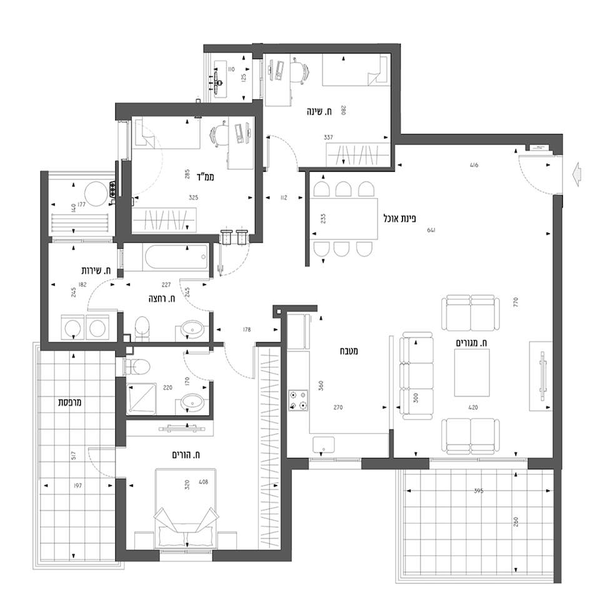door: (519, 151, 573, 197), (78, 276, 137, 315), (84, 437, 136, 481), (217, 233, 255, 282), (226, 337, 262, 387), (267, 132, 300, 172), (183, 274, 212, 316), (182, 350, 215, 386)
room: (275, 301, 570, 474), (296, 131, 568, 304), (111, 337, 290, 559), (108, 102, 268, 246), (255, 42, 399, 174), (34, 162, 126, 351), (115, 238, 218, 344)
wall: (547, 194, 563, 470), (383, 134, 567, 156), (205, 40, 402, 55), (251, 100, 270, 247), (115, 97, 270, 114), (277, 310, 294, 454), (550, 463, 566, 582), (38, 166, 48, 354), (387, 43, 405, 143), (111, 160, 132, 244), (299, 163, 317, 259), (302, 161, 399, 177), (279, 457, 294, 550), (208, 548, 292, 564), (113, 475, 128, 562), (360, 455, 431, 473), (110, 374, 127, 449), (119, 232, 220, 244), (45, 342, 129, 355), (129, 339, 227, 347), (114, 307, 128, 358), (126, 415, 214, 423), (270, 303, 320, 317), (117, 550, 161, 563), (204, 310, 217, 353), (526, 455, 562, 469), (205, 242, 217, 281), (207, 381, 216, 412)
window: (433, 450, 528, 472), (301, 449, 364, 472), (158, 546, 212, 566), (112, 122, 137, 162), (251, 57, 269, 95), (112, 359, 135, 377)
